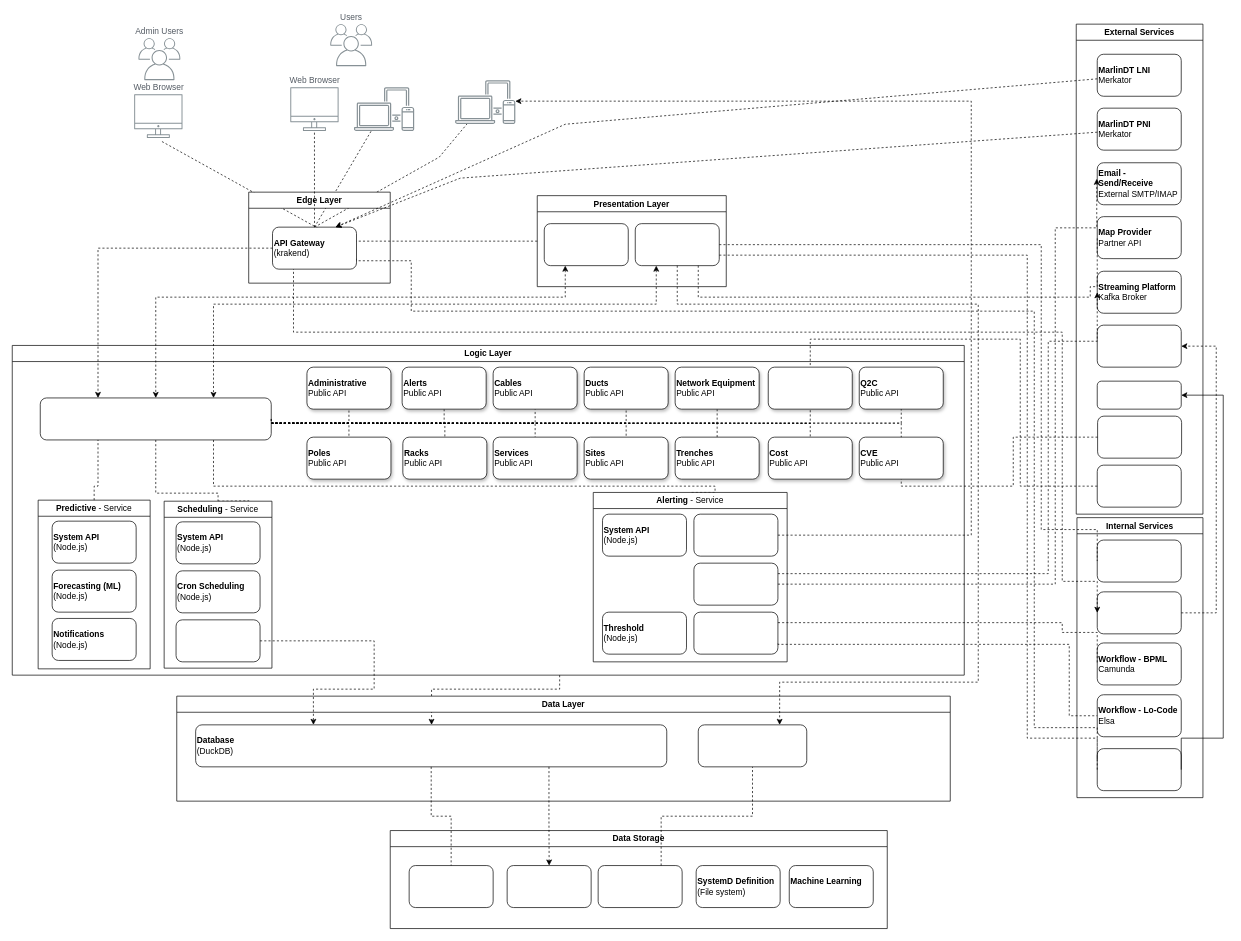
Image size: 1241x941. Some labels were removed from this diagram. Each missing label, with the centre of its shape:
"Alert Callback (Node.js)" belongs at (x=735, y=534).
"Alert Despatch (Node.js)" belongs at (x=735, y=583).
"API Server (Node.js)" belongs at (x=155, y=418).
"Currency FX Rates Partner" belongs at (x=1139, y=485).
"Currency Public API" belongs at (x=810, y=389).
"CVEs Public Domain" belongs at (x=1139, y=436).
"Database (File) (File system)" belongs at (x=450, y=886).
"Database Export (File system)" belongs at (x=548, y=886).
"Database Export Job (Node.js)" belongs at (x=217, y=640).
"DNS" belongs at (x=1139, y=394).
"DNS - Service Discovery dnsmasq" belongs at (x=1139, y=769).
"Federated IAM Partner" belongs at (x=1139, y=345).
"IAM (Authentix)" belongs at (x=1139, y=612).
"Mobile Apps/Devices" belongs at (x=384, y=109).
"Public APIs (Node.js)" belongs at (x=586, y=244).
"Third-Party Apps" belongs at (x=485, y=102).
"UI (Node.js)" belongs at (x=677, y=244).
"UI Static Content (File system)" belongs at (x=639, y=886).
"User Interface (UI) (Node.js & Express)" belongs at (x=752, y=745).
"Visualization (TBC)" belongs at (x=1139, y=560).
"Workflow Runner (Node.js)" belongs at (x=735, y=632).
